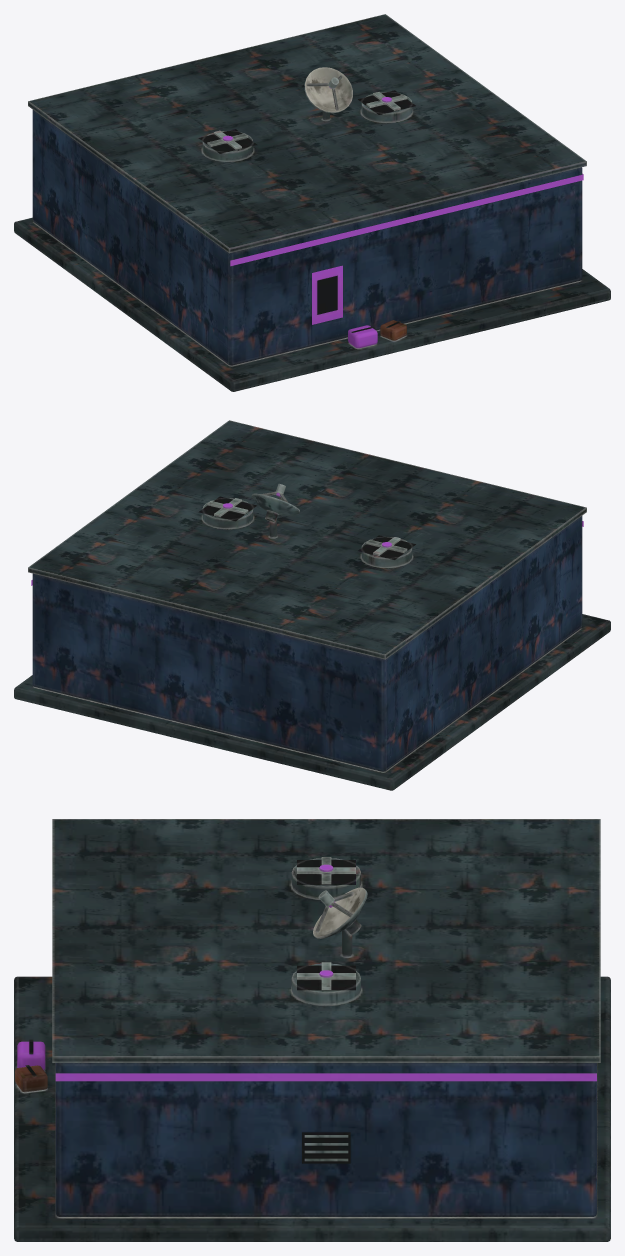
The model's file is miniaturization_factory.glb.
3 views of the same model, one above another, from view 1: azimuth 30°, elevation 25°; view 2: azimuth 150°, elevation 25°; view 3: azimuth 270°, elevation 25° (orthographic). The views are drawn at different scales.
Visible parts, largest first — view 1: te_miniaturization_factory, move_dish; view 2: te_miniaturization_factory, move_dish; view 3: te_miniaturization_factory, move_dish, move_fan_2, move_fan_1.
Part boxes in pixels (x1=…): te_miniaturization_factory: x1=14, y1=14, x2=610, y2=391; move_dish: x1=304, y1=67, x2=352, y2=113; te_miniaturization_factory: x1=14, y1=420, x2=610, y2=790; move_dish: x1=251, y1=483, x2=299, y2=522; te_miniaturization_factory: x1=14, y1=819, x2=610, y2=1241; move_dish: x1=313, y1=887, x2=367, y2=939; move_fan_2: x1=297, y1=962, x2=355, y2=989; move_fan_1: x1=297, y1=857, x2=355, y2=884.
Size of the model in its own units: 1.72 by 0.7745 by 1.72.
Materials: 1 (1 with a texture image).
